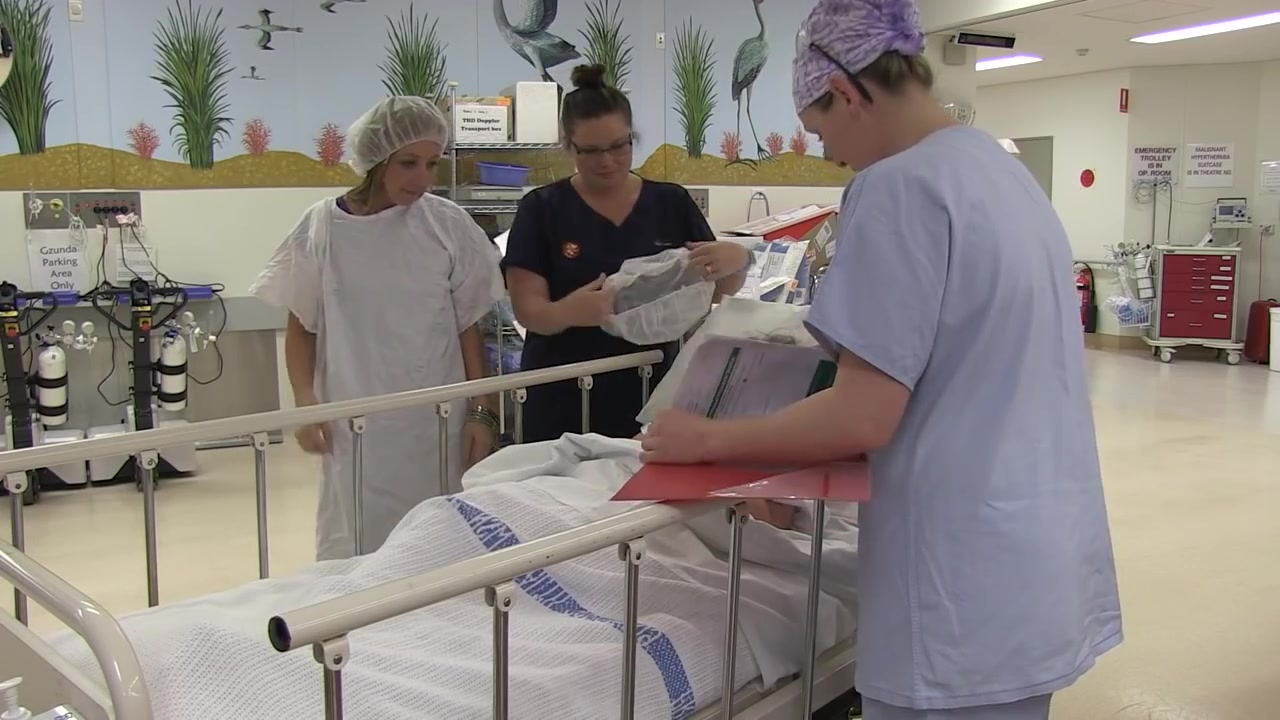bedrail: (1, 348, 666, 625), (264, 461, 898, 720)
foot_board: (1, 532, 154, 720)
handle: (1186, 319, 1205, 329), (1190, 272, 1206, 282), (1189, 283, 1206, 292), (1188, 297, 1205, 306), (1190, 264, 1208, 272), (1191, 256, 1209, 263)
hospital_bed: (1, 293, 904, 720)
iv_pole: (1142, 176, 1166, 282)
medical_drawer: (1153, 241, 1244, 365)
staff: (753, 1, 1184, 720), (525, 73, 717, 427)
visitor: (281, 90, 494, 549)
